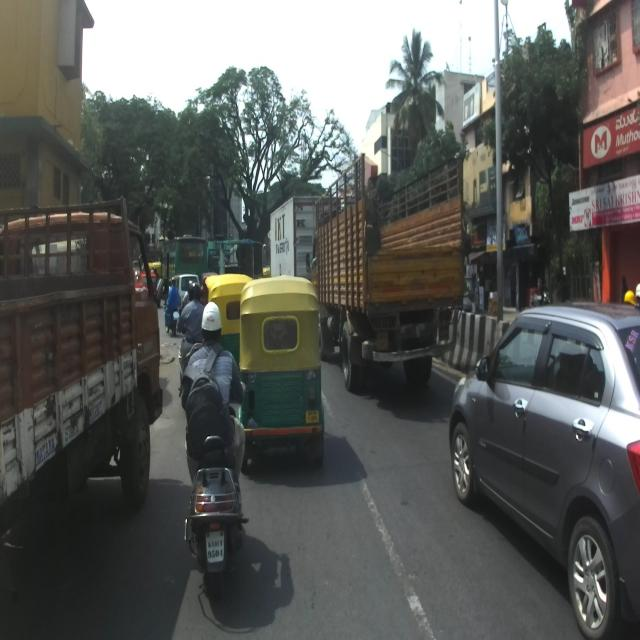Car_Maruti-Suzuki: (448, 301, 640, 639)
autorickshaw: (244, 271, 328, 461), (204, 272, 254, 370), (261, 267, 273, 279)
scooter: (178, 362, 249, 597)
truck: (0, 181, 162, 596), (306, 151, 464, 394)
